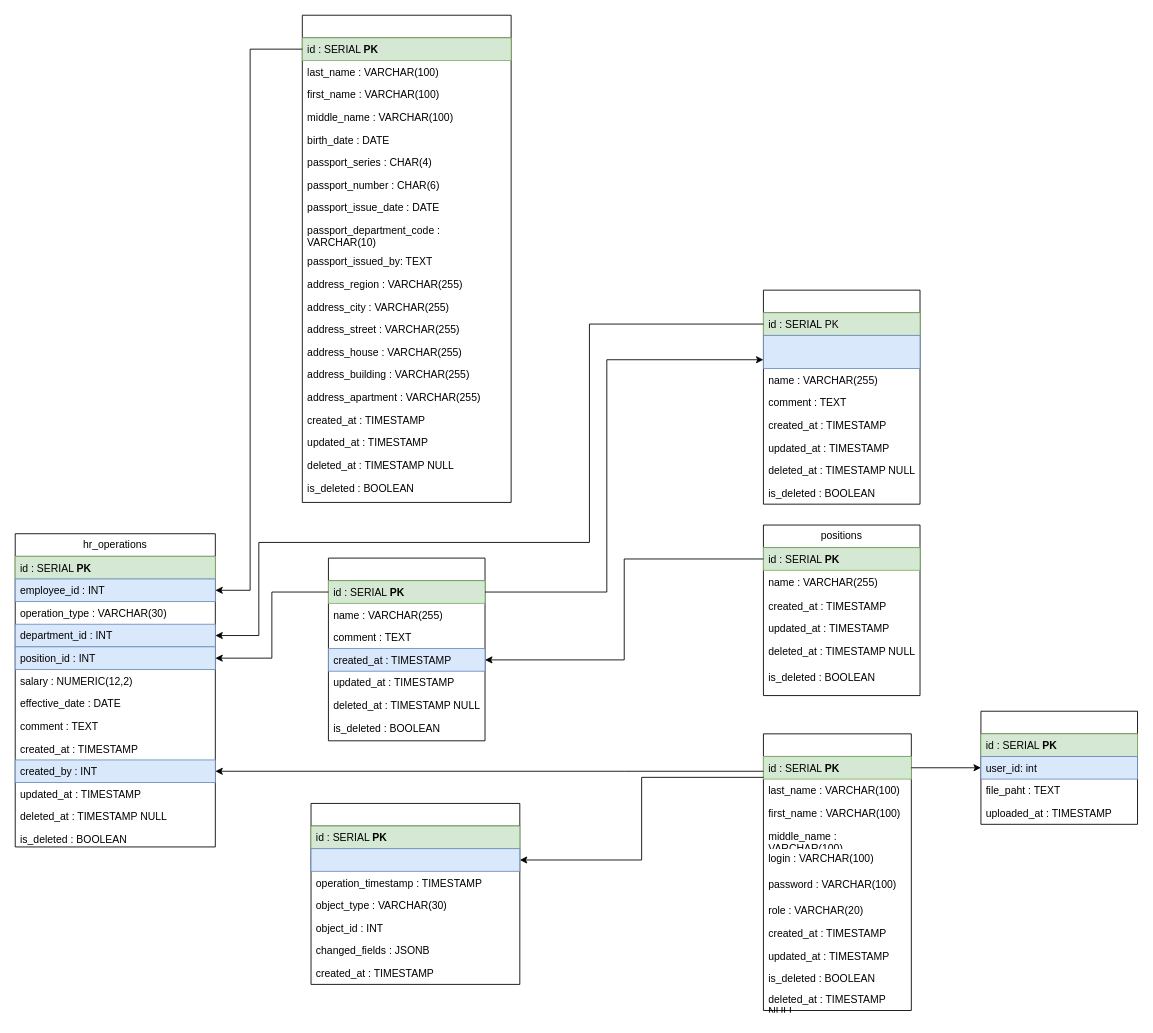
Some shapes in this 1153 by 1033 pixel diagram are drawn without their labels. The box of each missing label's shape, as (x1, y1, x2, y2) in pixels:
change_history: (310, 803, 520, 984)
changed_by : INT: (310, 848, 520, 871)
departments: (763, 289, 920, 504)
employees: (301, 14, 511, 502)
organization_id : INT: (763, 335, 920, 368)
organizations: (328, 557, 485, 741)
user_file: (980, 710, 1138, 824)
users: (763, 733, 911, 1011)
